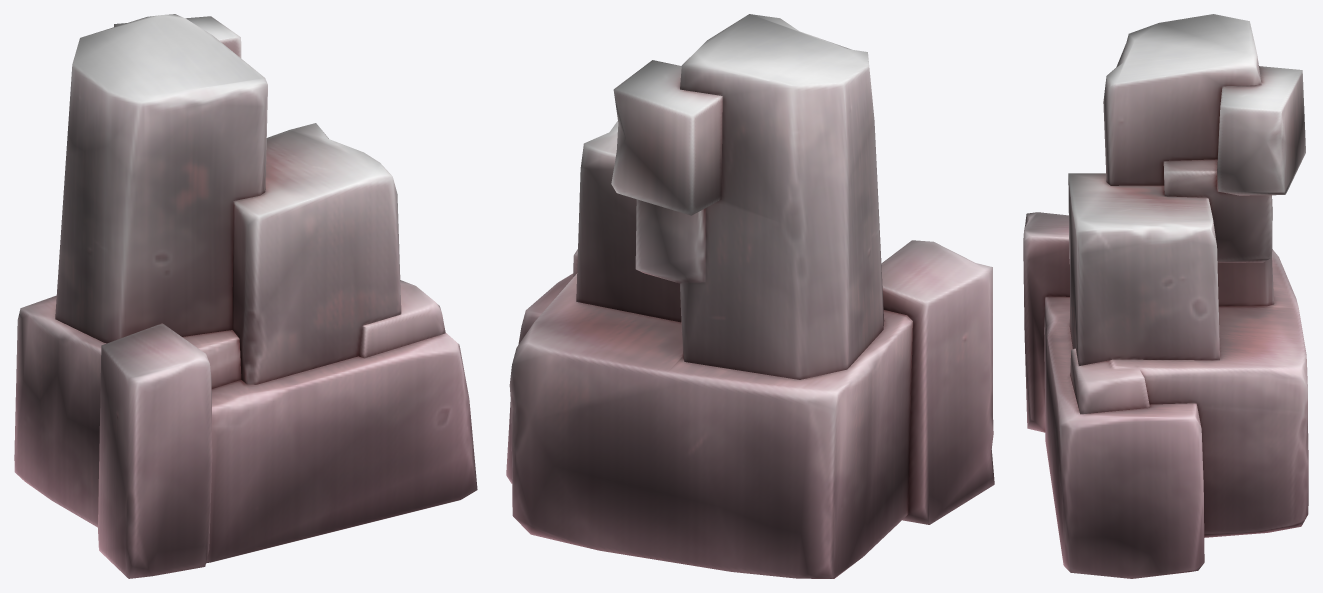
The model's file is SM_Gem_Halite_002.fbx.
3 renders of one model, left to right at view 1: azimuth 30°, elevation 25°; view 2: azimuth 150°, elevation 25°; view 3: azimuth 270°, elevation 25°, orthographic. The views are drawn at different scales.
Parts seen in each view (by area): view 1: SM_Gem_Halite_002; view 2: SM_Gem_Halite_002; view 3: SM_Gem_Halite_002.
Part boxes in pixels (bbox=[...]): SM_Gem_Halite_002: bbox=[14, 14, 477, 578]; SM_Gem_Halite_002: bbox=[506, 14, 994, 578]; SM_Gem_Halite_002: bbox=[1023, 14, 1308, 578].
Bounding box in the file's own units: 67.58 × 81.54 × 49.24.
